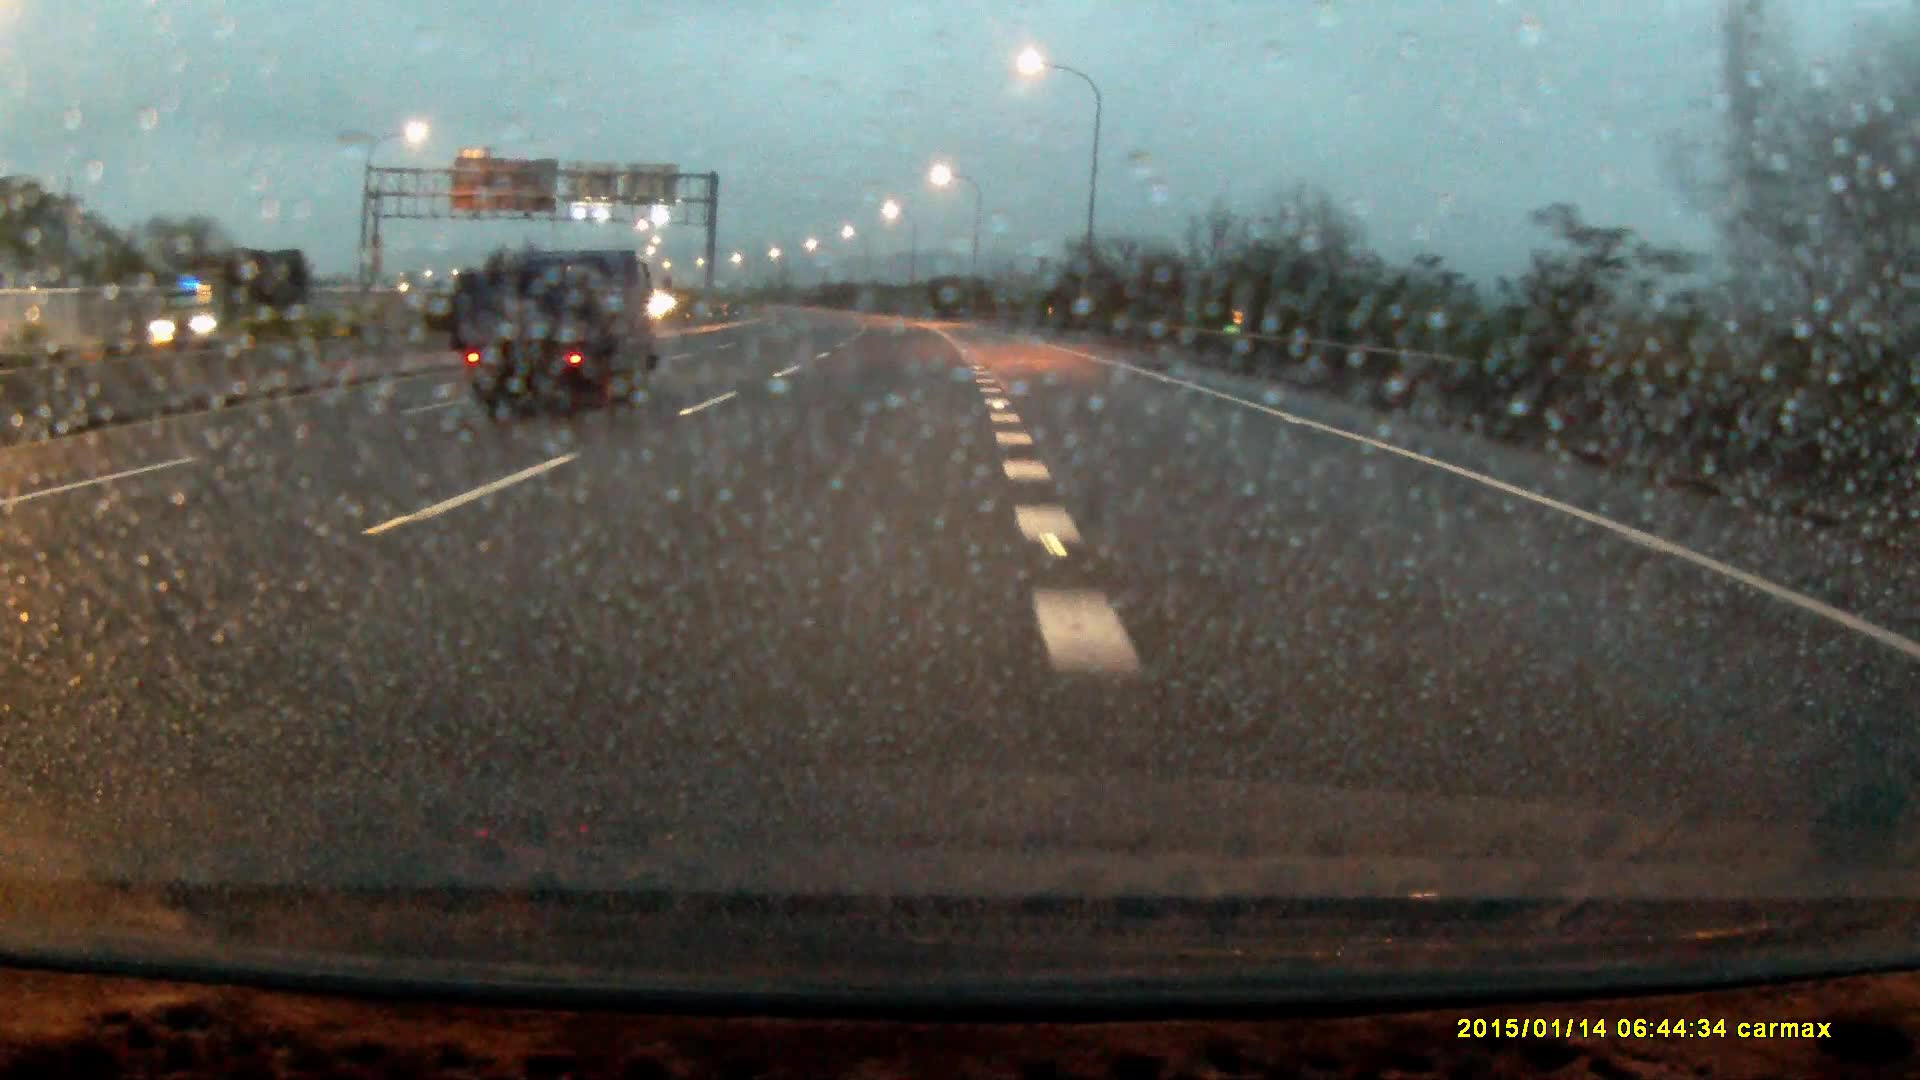vehicle: (448, 247, 657, 413), (144, 247, 313, 349)
